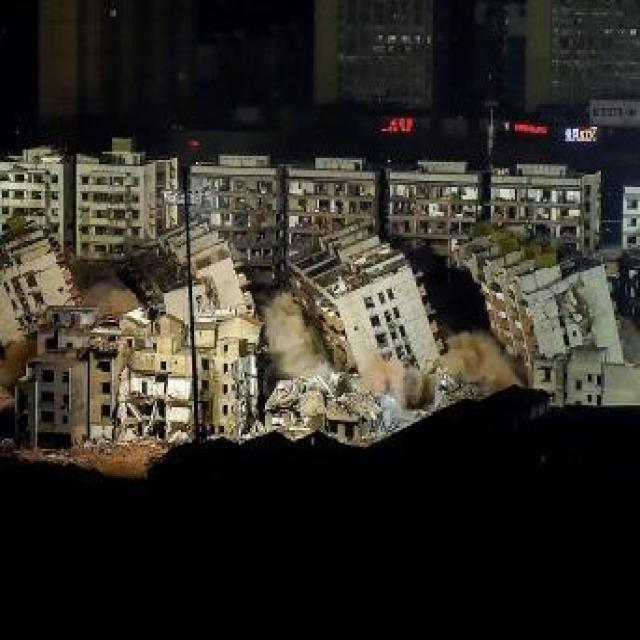collapsed_building: (280, 226, 437, 449), (459, 239, 638, 409), (123, 232, 254, 442), (0, 233, 95, 451)
